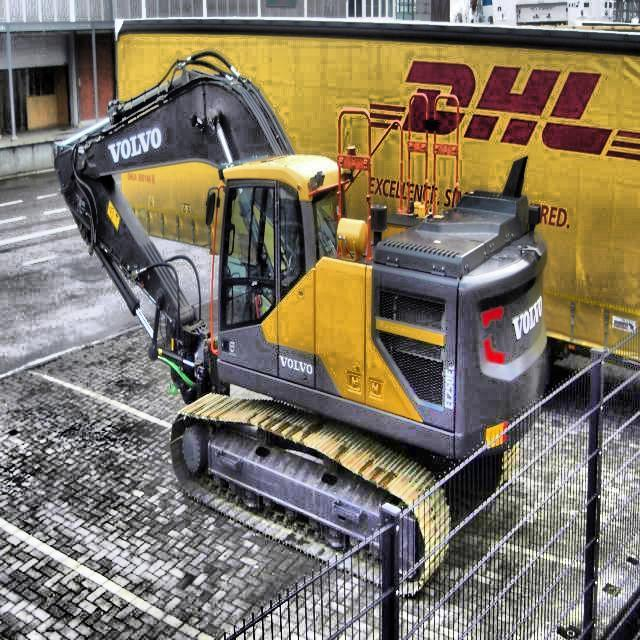excavator: (51, 45, 551, 598)
